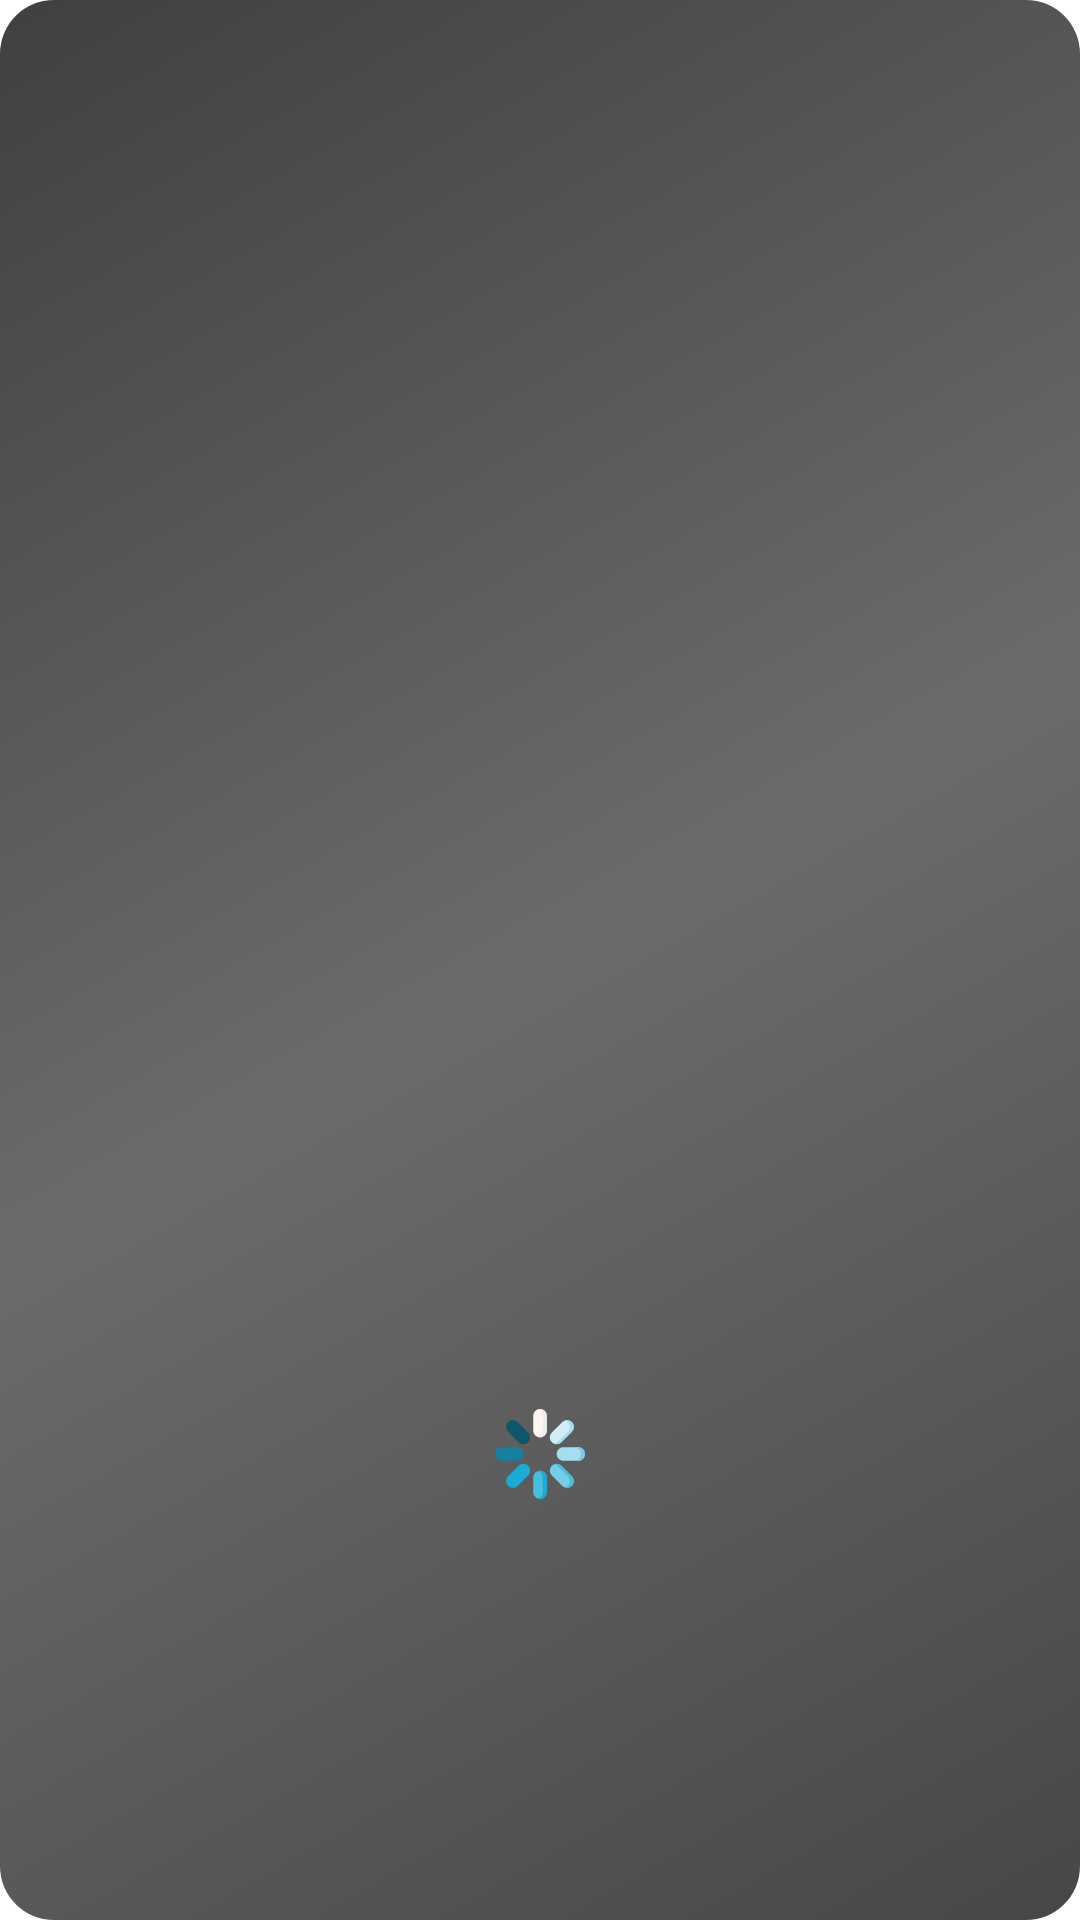

Where icons sit on this 1080w x 1920h app screen, as (x1, y1, x2, y2):
loading start app: (495, 1409, 585, 1499)
